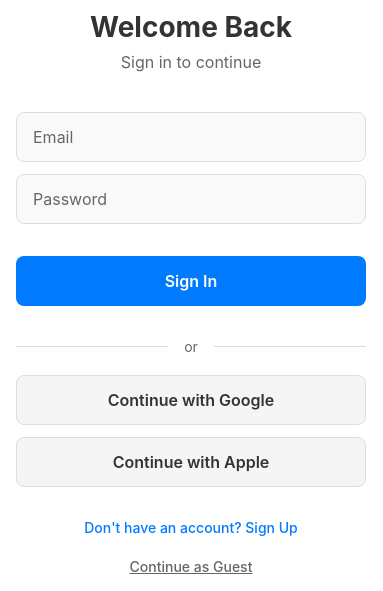
Scenario: AuthScreen › toggles to signup form when switch button is pressed
Click the text "Don't have an account? Sign Up" at (191, 527), box [84, 518, 298, 536]
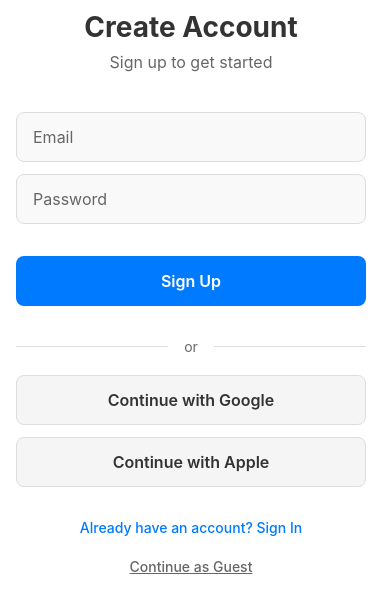
expect the text "Sign Up" is shown: met, box [161, 270, 221, 290]
expect the text "Already have an account? Sign In" is shown: met, box [80, 518, 302, 536]
